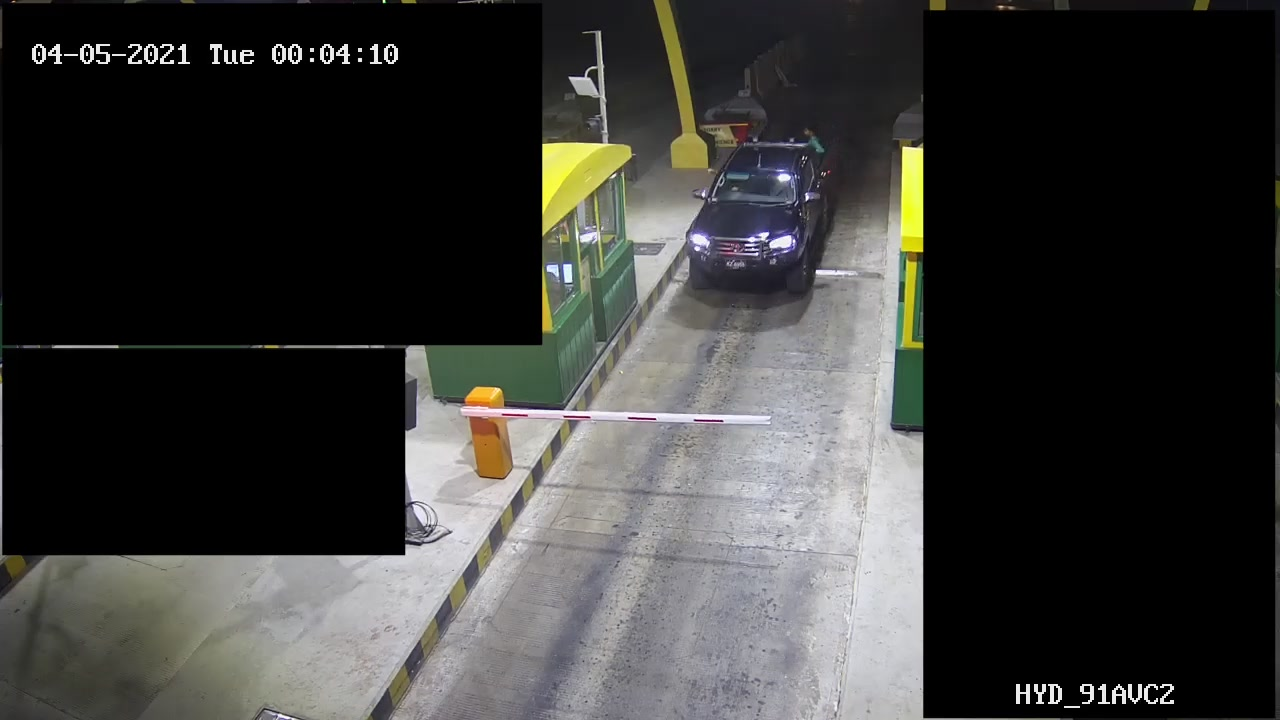F1: (678, 127, 830, 310)
